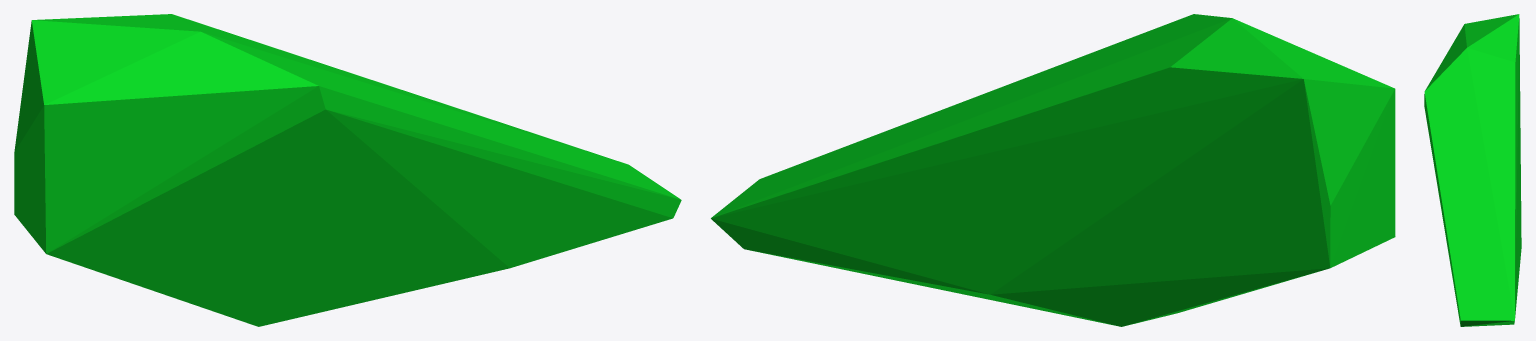
Rendered from camera_convex_piece_005.obj.
3 renders of one model, left to right at view 1: azimuth 30°, elevation 25°; view 2: azimuth 150°, elevation 25°; view 3: azimuth 270°, elevation 25°, orthographic. The views are drawn at different scales.
Bounding box in the file's own units: 0.0318 × 0.015 × 0.00793.
